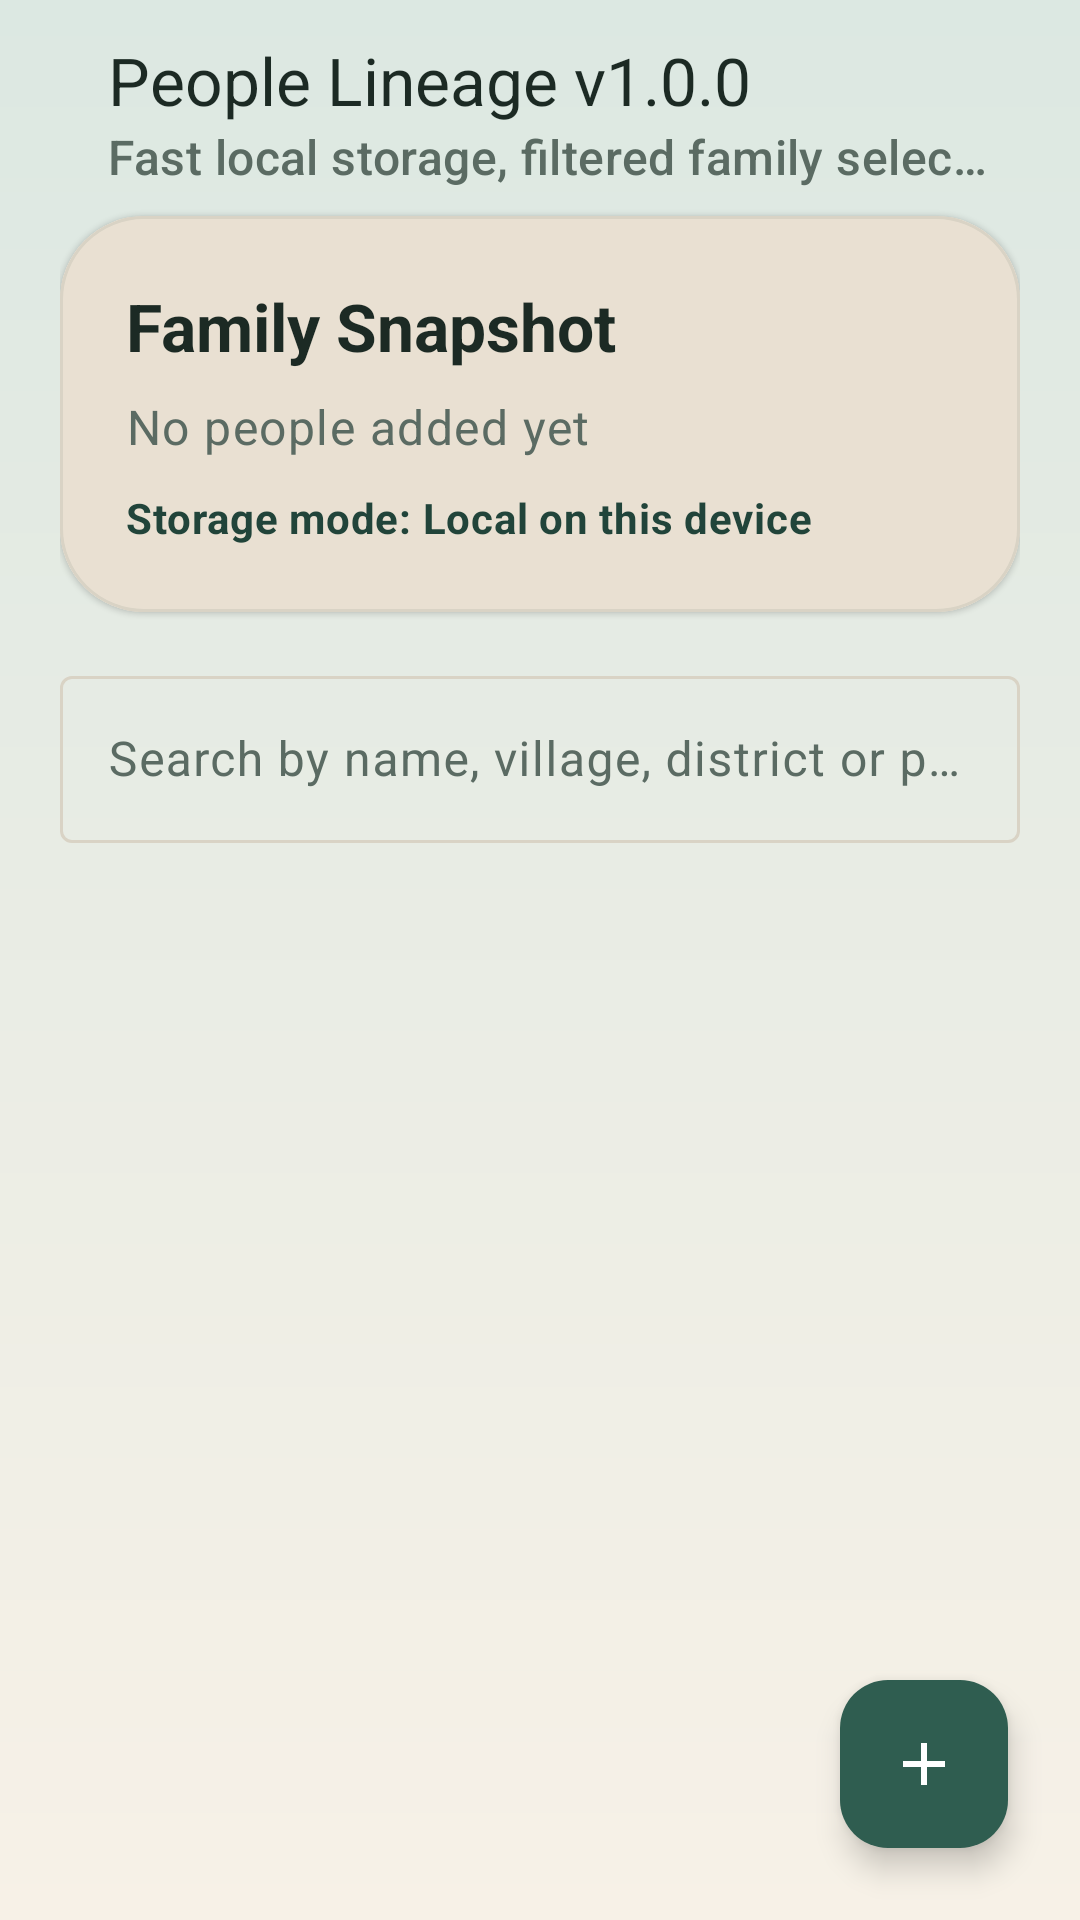

Screen size 1080x1920. Icon name, then its box in pixels as (x1, y1, x2, y2):
Add Person: (840, 1680, 1008, 1848)
